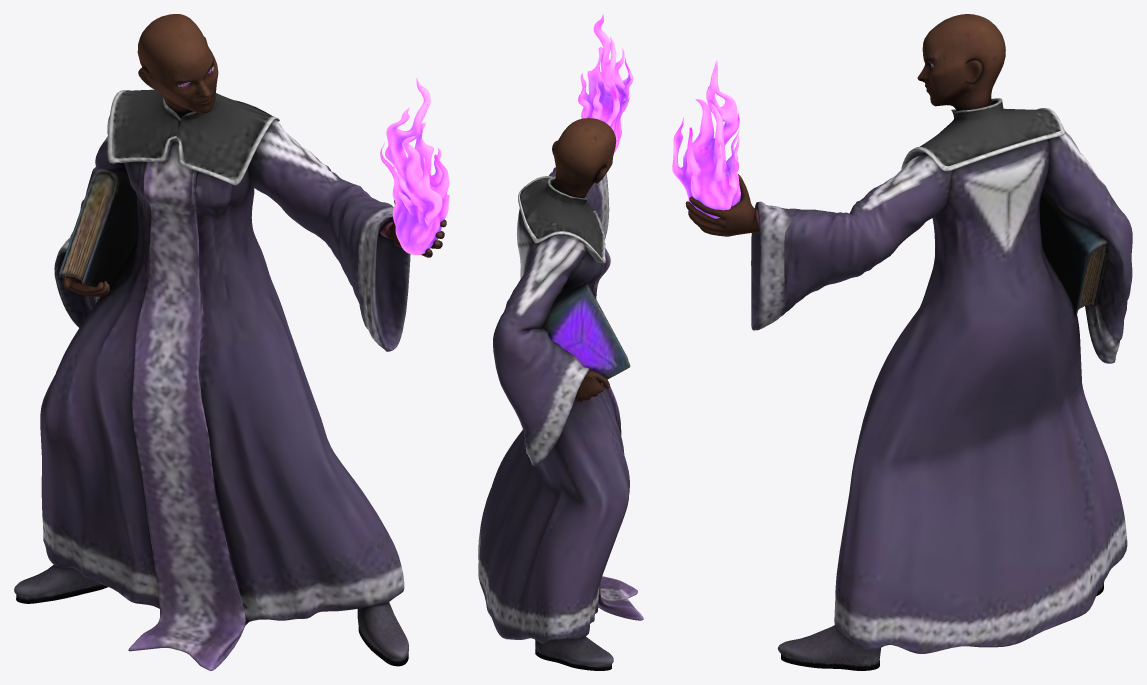
Rendered from MZ4250 - Mage Apprentice Female_1 2025.glb.
The picture shows the model from 3 angles, left to right: view 1: azimuth 30°, elevation 25°; view 2: azimuth 150°, elevation 25°; view 3: azimuth 270°, elevation 25°; orthographic projection. The views are drawn at different scales.
Parts seen in each view (by area): view 1: Body.002; view 2: Body.002; view 3: Body.002.
Boxes of the visible parts, x1,y1,x2,y2 form: Body.002: (14, 14, 449, 670); Body.002: (478, 14, 643, 670); Body.002: (672, 14, 1132, 670).
Size of the model in its own units: 40.01 by 88.52 by 62.03.
3 materials, 3 textured.
